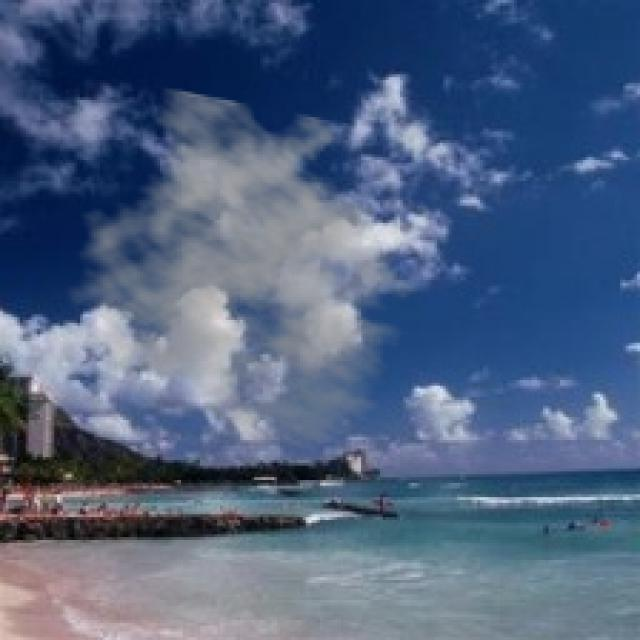Smoke: (62, 86, 438, 452)
